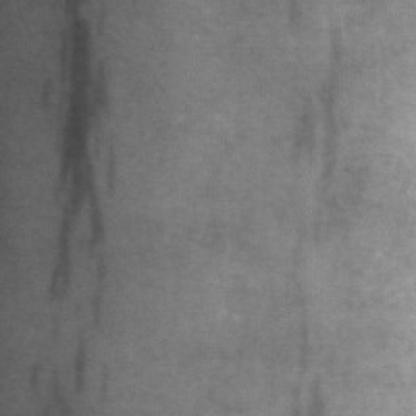inclusion: (38, 4, 124, 343), (302, 37, 350, 198), (62, 331, 100, 407)
